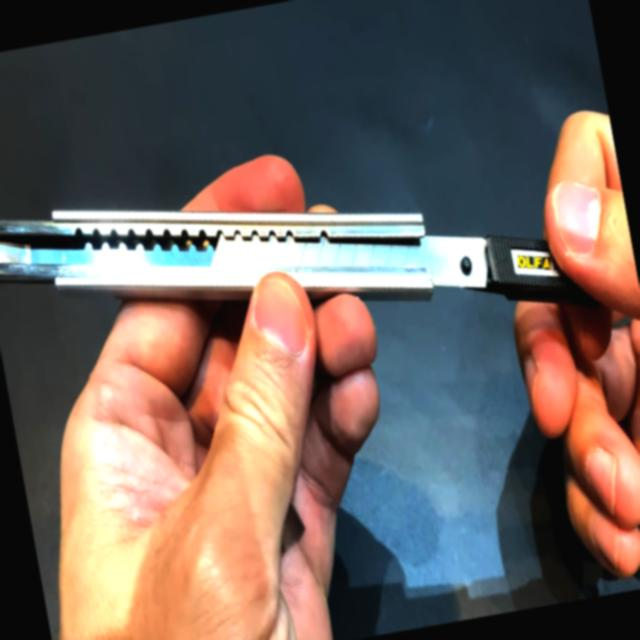cutter: (0, 39, 640, 559)
